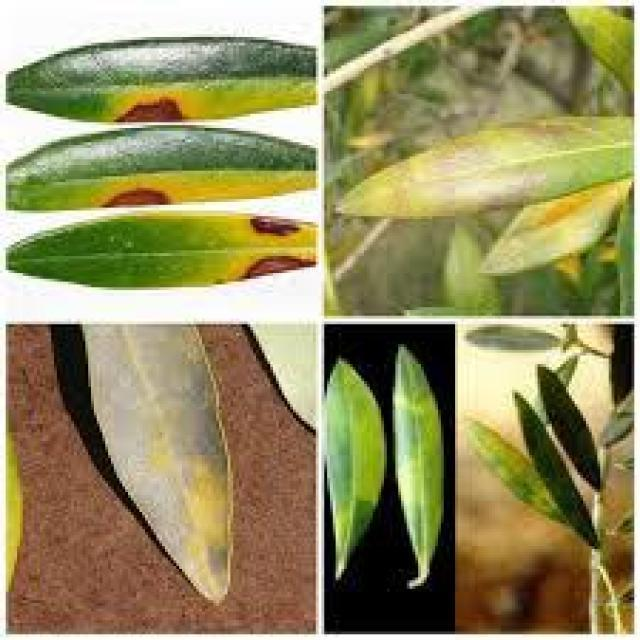OlivePeacockSpot: (82, 324, 230, 586), (336, 116, 632, 219), (9, 37, 312, 119), (6, 128, 313, 208), (9, 213, 312, 290), (324, 358, 384, 578), (395, 347, 441, 586)
